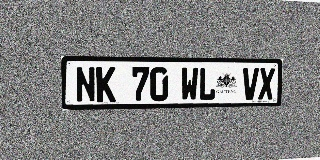0: (150, 67, 168, 101)
7: (131, 67, 149, 102)
K: (96, 67, 116, 102)
L: (198, 67, 216, 101)
N: (75, 67, 96, 103)
V: (242, 68, 259, 100)
W: (181, 67, 198, 101)
X: (258, 68, 275, 100)
